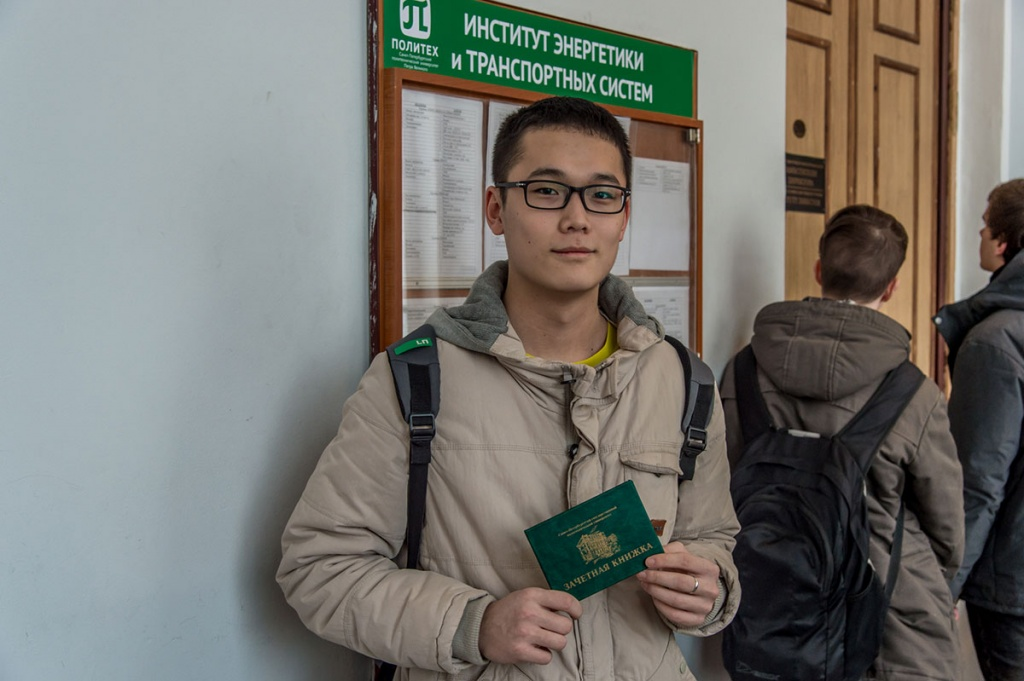students: (274, 92, 744, 679), (714, 202, 967, 679), (947, 177, 1020, 681)
